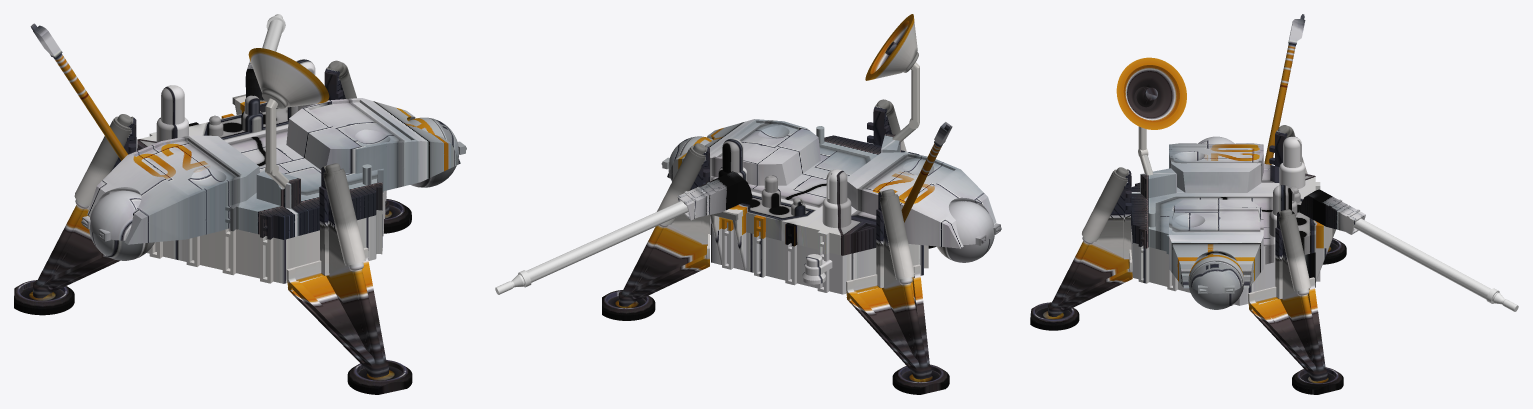
Rendered from MarsLander.glb.
The picture shows the model from 3 angles, left to right: view 1: azimuth 30°, elevation 25°; view 2: azimuth 150°, elevation 25°; view 3: azimuth 270°, elevation 25°; orthographic projection. The views are drawn at different scales.
Visible parts, largest first — view 1: body_top, leg1, body_bottom, leg3, dish, antenna, platter1, platter3, dish_pole, leg2, platter2, sensor_pole (+1 smaller); view 2: body_top, leg3, body_bottom, leg2, sensor_pole, sensor_joint, dish, platter3, platter2, leg1, antenna, dish_pole; view 3: body_top, leg2, leg1, dish, body_bottom, sensor_pole, sensor_joint, antenna, platter1, platter2, leg3, dish_pole.
Part boxes in pixels (x1=…): body_top: x1=81, y1=59, x2=466, y2=244; leg1: x1=286, y1=163, x2=388, y2=377; body_bottom: x1=89, y1=155, x2=458, y2=283; leg3: x1=33, y1=114, x2=136, y2=298; dish: x1=248, y1=48, x2=329, y2=108; antenna: x1=30, y1=23, x2=127, y2=160; platter1: x1=347, y1=360, x2=412, y2=394; platter3: x1=14, y1=280, x2=74, y2=315; dish_pole: x1=265, y1=98, x2=288, y2=189; leg2: x1=324, y1=60, x2=389, y2=214; platter2: x1=384, y1=199, x2=411, y2=233; sensor_pole: x1=262, y1=19, x2=283, y2=51; body_top: x1=661, y1=119, x2=1001, y2=255; leg3: x1=846, y1=189, x2=931, y2=379; body_bottom: x1=668, y1=169, x2=994, y2=294; leg2: x1=618, y1=143, x2=709, y2=306; sensor_pole: x1=526, y1=201, x2=688, y2=282; sensor_joint: x1=677, y1=171, x2=752, y2=220; dish: x1=865, y1=14, x2=918, y2=80; platter3: x1=892, y1=364, x2=949, y2=394; platter2: x1=602, y1=290, x2=655, y2=320; leg1: x1=867, y1=99, x2=906, y2=151; antenna: x1=901, y1=122, x2=952, y2=222; dish_pole: x1=892, y1=62, x2=919, y2=142; body_top: x1=1131, y1=136, x2=1335, y2=293; leg2: x1=1248, y1=209, x2=1327, y2=381; leg1: x1=1048, y1=167, x2=1132, y2=316; dish: x1=1116, y1=57, x2=1186, y2=129; body_bottom: x1=1131, y1=226, x2=1328, y2=309; sensor_pole: x1=1354, y1=218, x2=1491, y2=299; sensor_joint: x1=1299, y1=189, x2=1365, y2=234; antenna: x1=1264, y1=14, x2=1305, y2=164; platter1: x1=1030, y1=302, x2=1079, y2=330; platter2: x1=1292, y1=367, x2=1343, y2=394; leg3: x1=1269, y1=125, x2=1307, y2=173; dish_pole: x1=1138, y1=126, x2=1153, y2=175.
Size of the model in its own units: 0.1465 by 0.1083 by 0.1978.
Materials: 2 (1 with a texture image).
